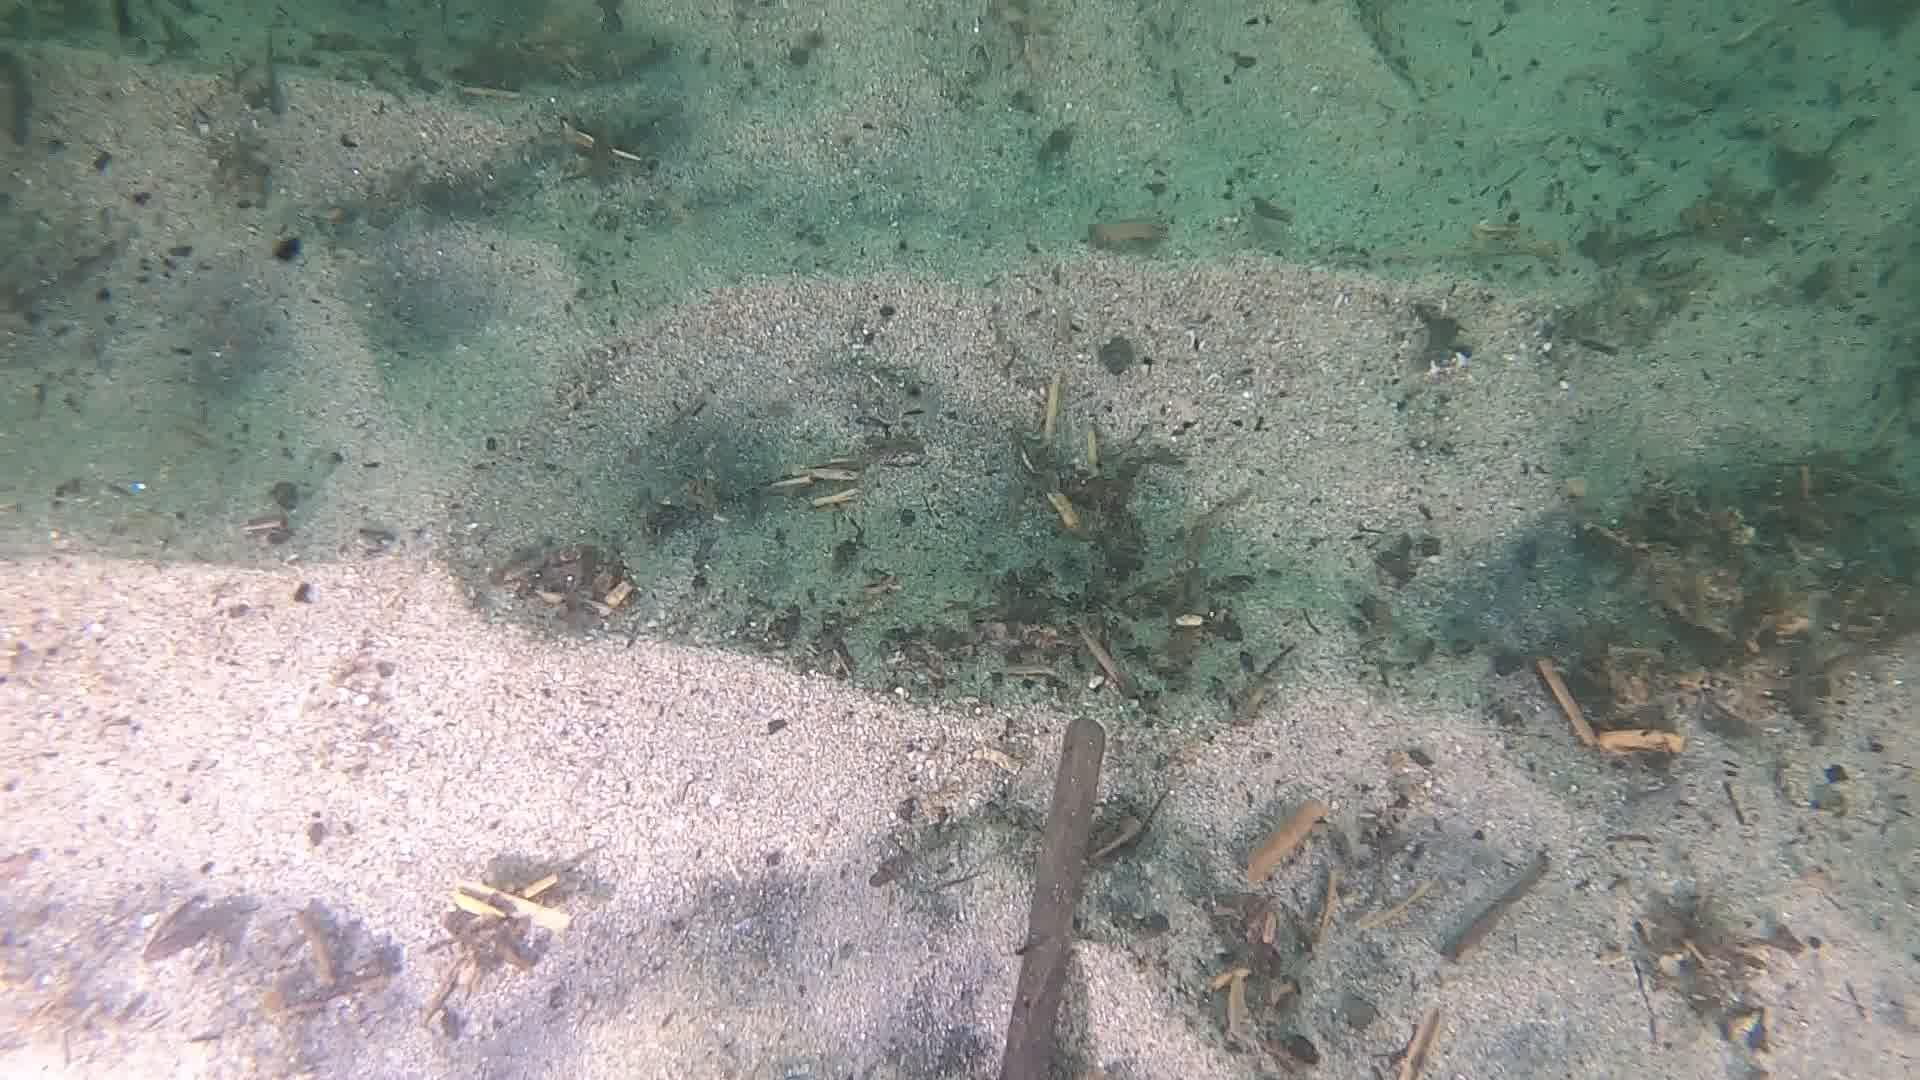wood: (989, 713, 1102, 1080)
